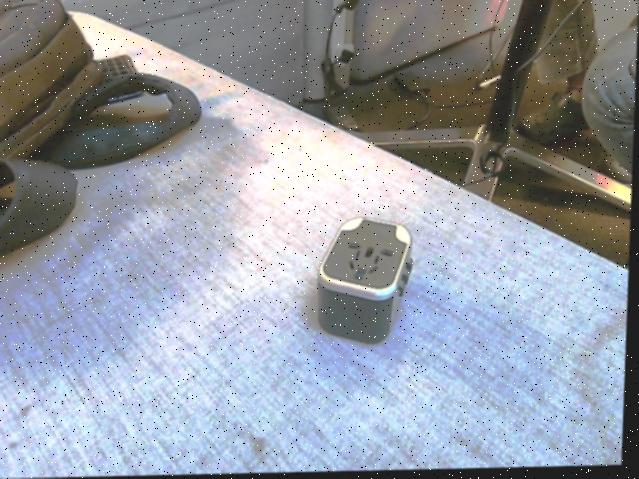adapter: (316, 217, 417, 346)
